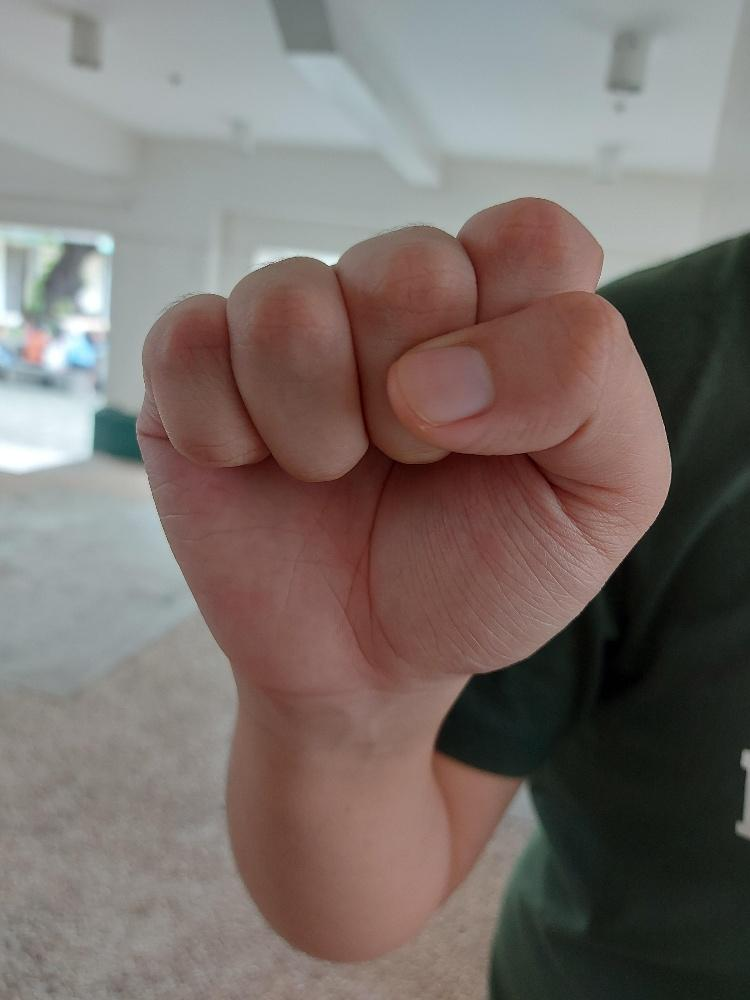s: (128, 191, 676, 684)
